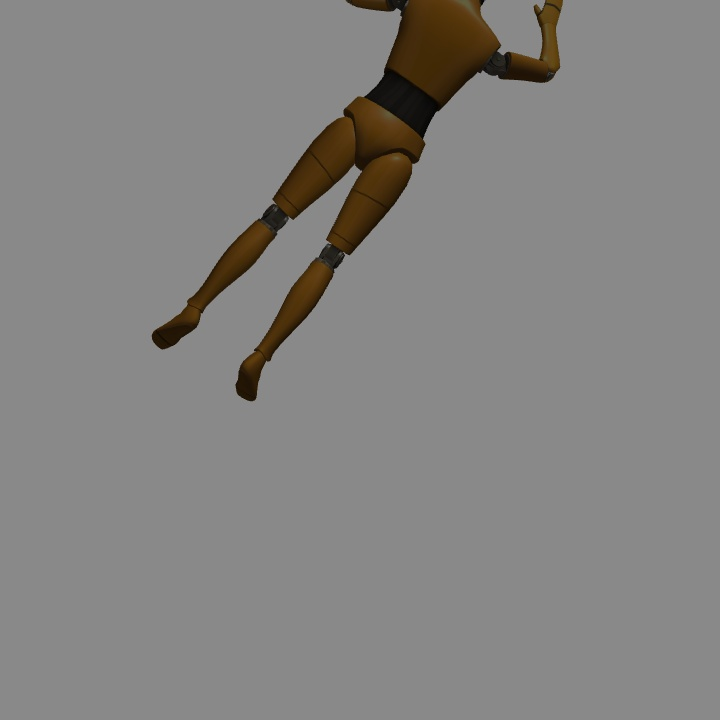victim: (155, 1, 560, 404)
